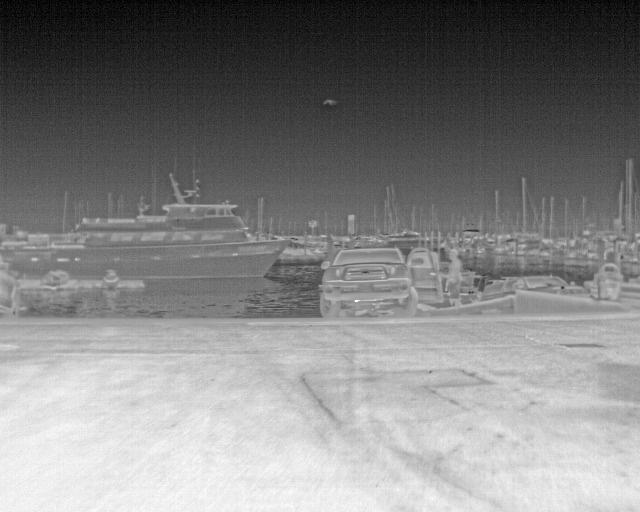bicycle: (316, 243, 444, 317)
empty: (443, 248, 464, 306)
